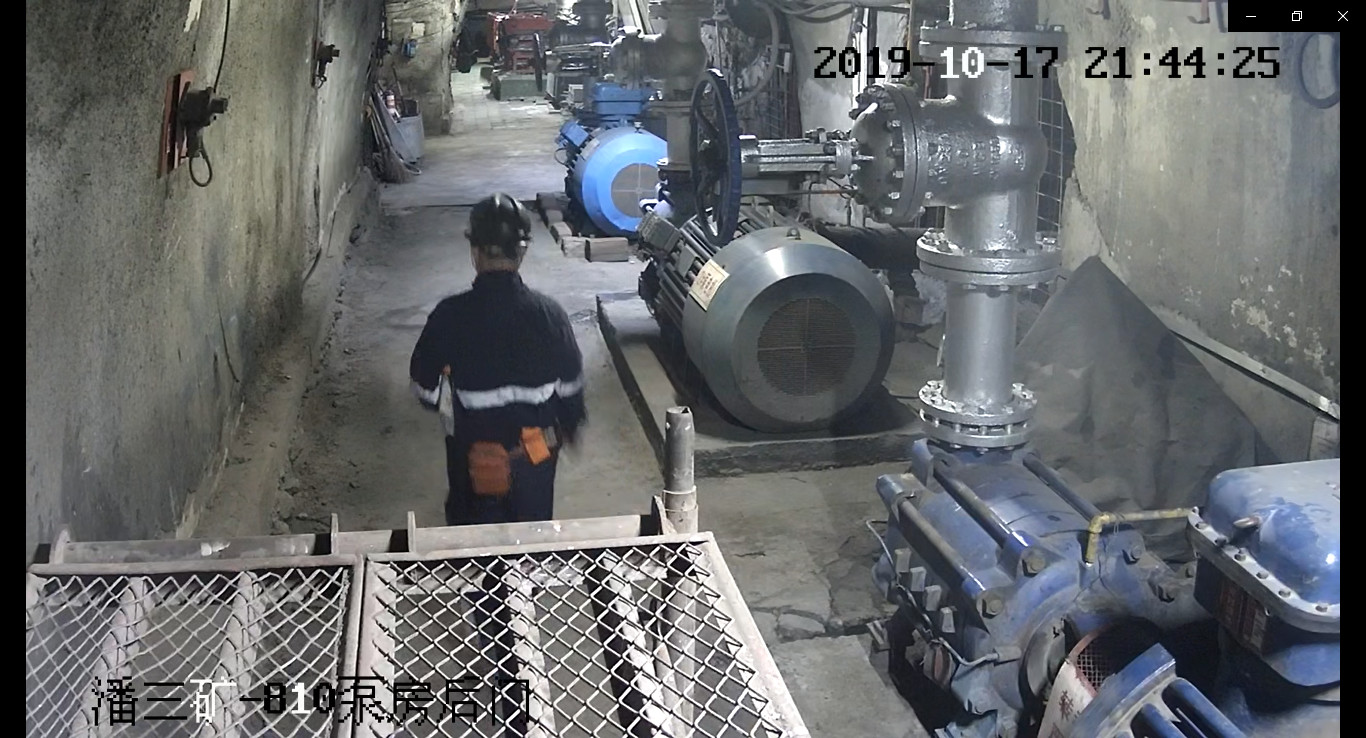helmet: (462, 189, 537, 244)
